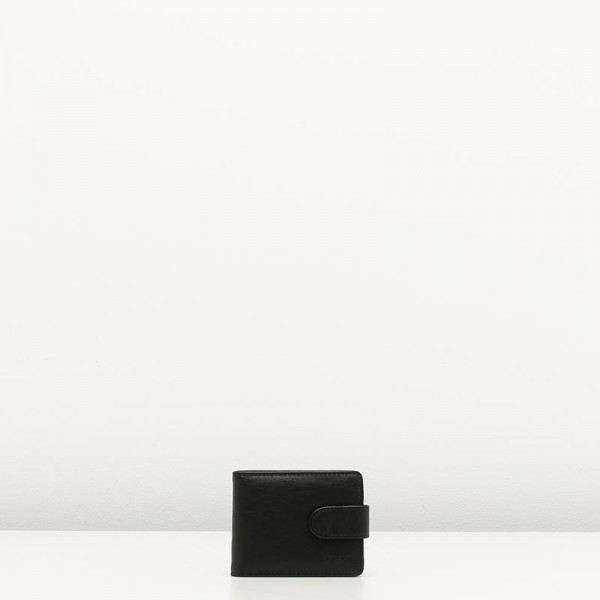monedero: (231, 470, 370, 578)
